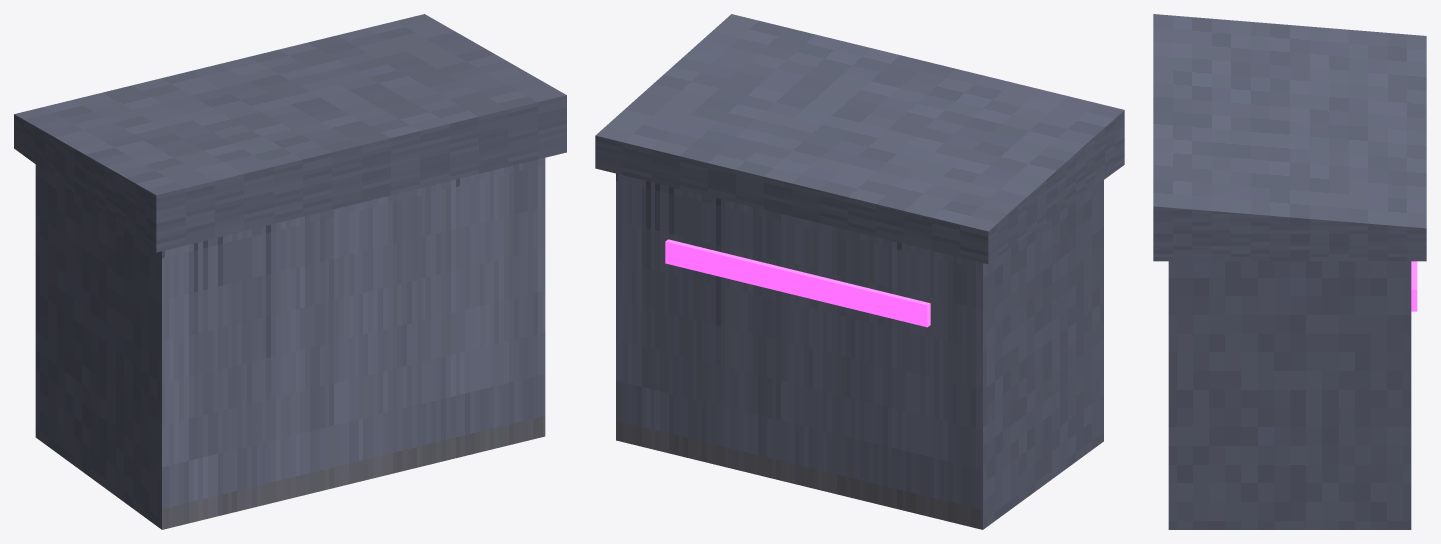
The model's file is p_jb_merlon.glb.
The picture shows the model from 3 angles, left to right: view 1: azimuth 30°, elevation 25°; view 2: azimuth 150°, elevation 25°; view 3: azimuth 270°, elevation 25°; orthographic projection. The views are drawn at different scales.
Parts seen in each view (by area): view 1: merlon_lod0; view 2: merlon_lod0; view 3: merlon_lod0.
Part boxes in pixels (<box>): merlon_lod0: <box>14,14,566,529</box>; merlon_lod0: <box>595,14,1124,529</box>; merlon_lod0: <box>1153,14,1426,529</box>.
Size of what is drawn, in the model's own units: 1.5 by 1.2 by 0.9.
Materials: 2 (1 with a texture image).
